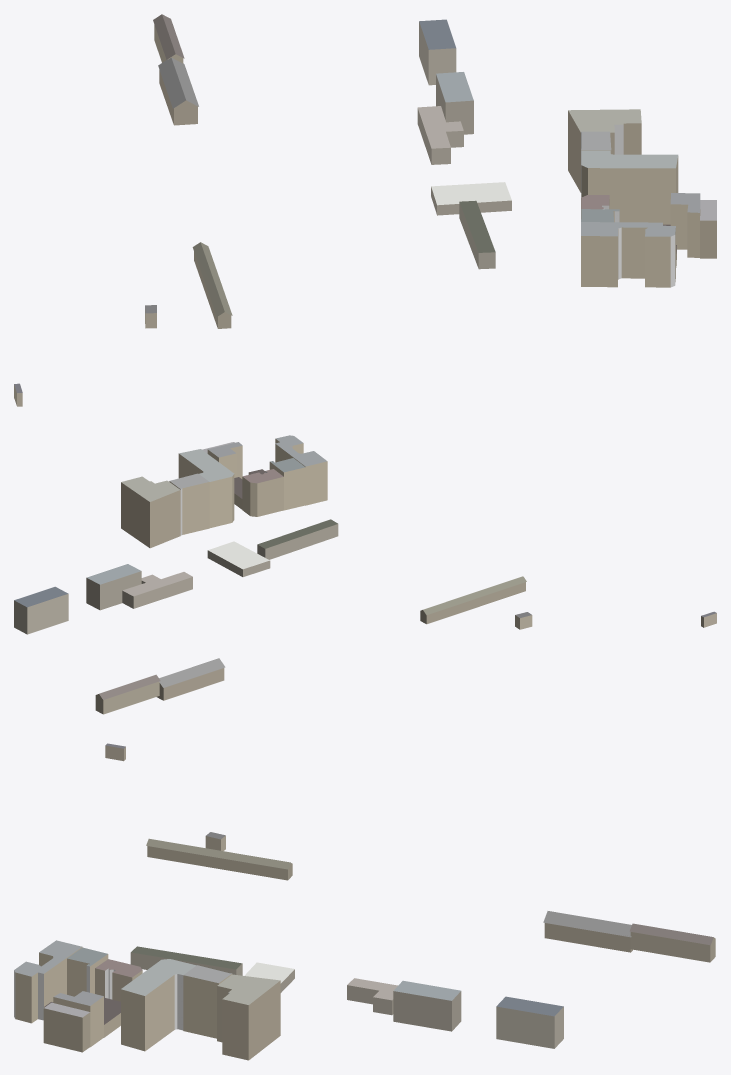
3 views of the same model, one above another, from view 1: azimuth 30°, elevation 25°; view 2: azimuth 150°, elevation 25°; view 3: azimuth 270°, elevation 25° (orthographic). The views are drawn at different scales.
Parts seen in each view (by area): view 1: tuile; view 2: tuile; view 3: tuile.
Part boxes in pixels (x1,y1,x2,y2): tuile: (14, 14, 716, 406); tuile: (14, 435, 716, 714); tuile: (14, 743, 715, 1060).
Size of the model in its own units: 260 by 27.95 by 246.
